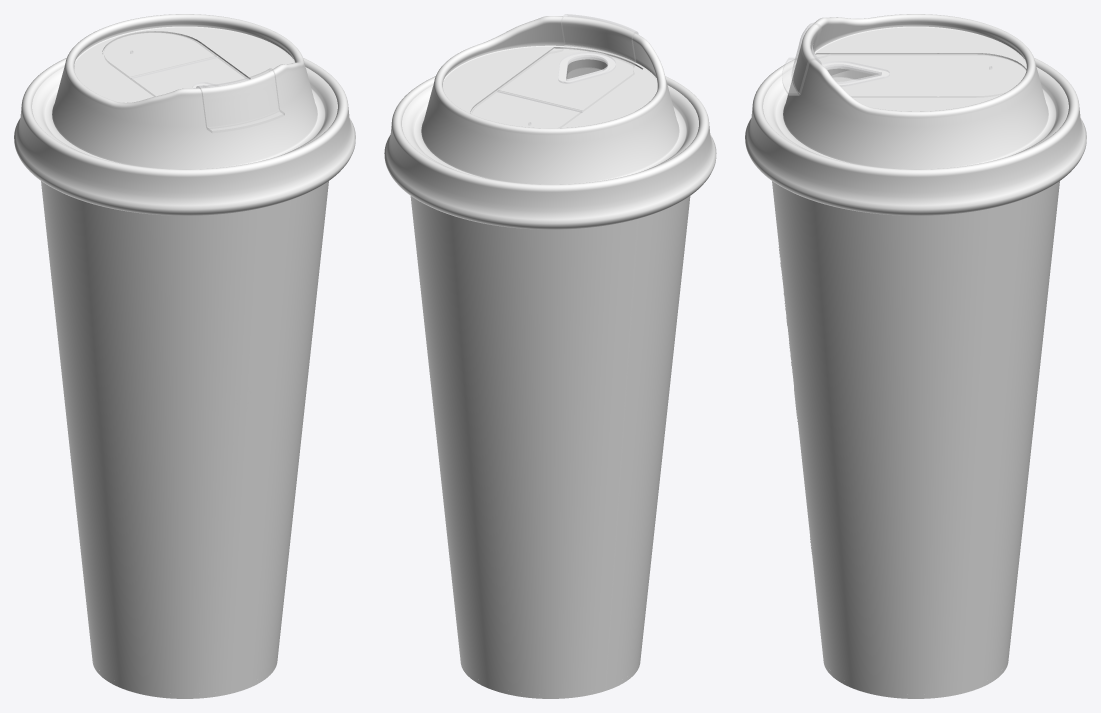
File: boongee-pp-700ml.79df0cad.glb
3 renders of one model, left to right at view 1: azimuth 30°, elevation 25°; view 2: azimuth 150°, elevation 25°; view 3: azimuth 270°, elevation 25°, orthographic. The views are drawn at different scales.
Parts seen in each view (by area): view 1: cup-body-mesh, lid-body-mesh, lid-strap-mesh, lid-strap-cap-mesh, print-mesh, cup-base-mesh; view 2: cup-body-mesh, lid-body-mesh, lid-strap-mesh, lid-strap-cap-mesh, cup-base-mesh; view 3: cup-body-mesh, lid-body-mesh, lid-strap-mesh, lid-strap-cap-mesh, cup-base-mesh.
Part boxes in pixels (x1,y1,x2,y2): cup-body-mesh: (41,181,328,698); lid-body-mesh: (14,14,355,215); lid-strap-mesh: (130,56,284,132); lid-strap-cap-mesh: (104,31,217,78); print-mesh: (204,296,267,587); cup-base-mesh: (92,659,277,698); cup-body-mesh: (410,196,690,698); lid-body-mesh: (384,16,716,229); lid-strap-mesh: (497,14,638,112); lid-strap-cap-mesh: (472,91,581,127); cup-base-mesh: (460,660,640,698); cup-body-mesh: (772,70,1059,698); lid-body-mesh: (745,14,1086,215); lid-strap-mesh: (782,23,937,97); lid-strap-cap-mesh: (938,53,1026,97); cup-base-mesh: (823,659,1008,698).
Bounding box in the file's own units: 0.1016 × 0.2032 × 0.1016.
4 materials, 1 textured.
